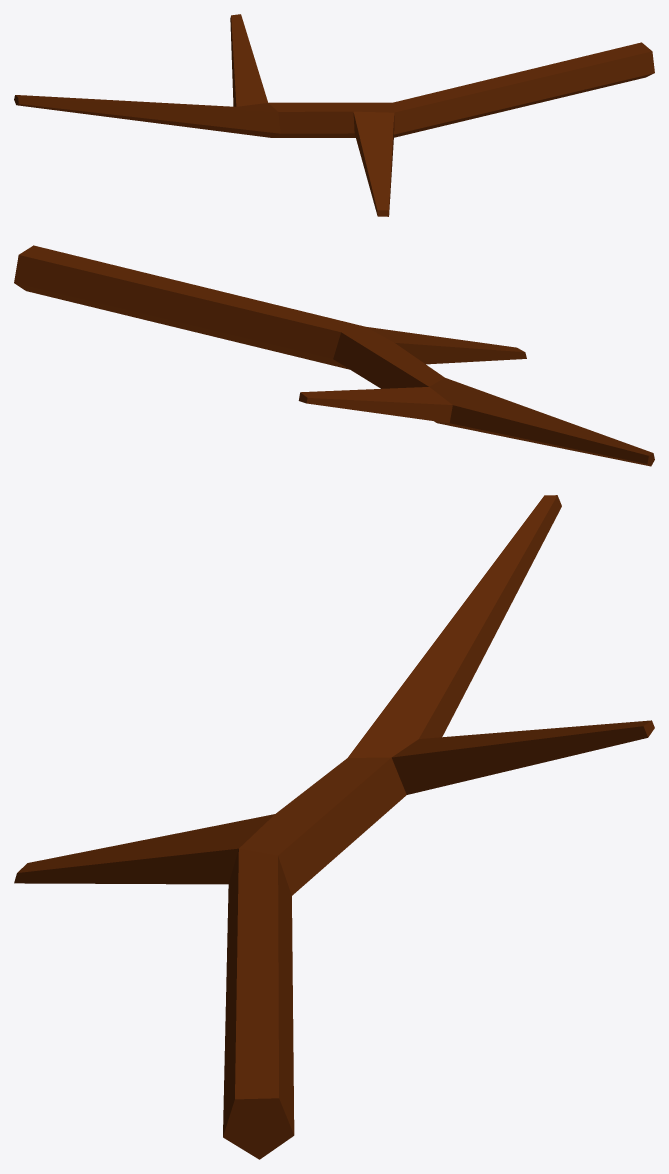
File: grana1.fbx
The picture shows the model from 3 angles, top to bottom: view 1: azimuth 30°, elevation 25°; view 2: azimuth 150°, elevation 25°; view 3: azimuth 270°, elevation 25°; orthographic projection. The views are drawn at different scales.
Parts seen in each view (by area): view 1: grana1; view 2: grana1; view 3: grana1.
Boxes of the visible parts, x1,y1,x2,y2 form: grana1: (14,14,654,216); grana1: (14,245,654,466); grana1: (14,495,654,1159).
Bounding box in the file's own units: 126 × 18.17 × 63.06.
